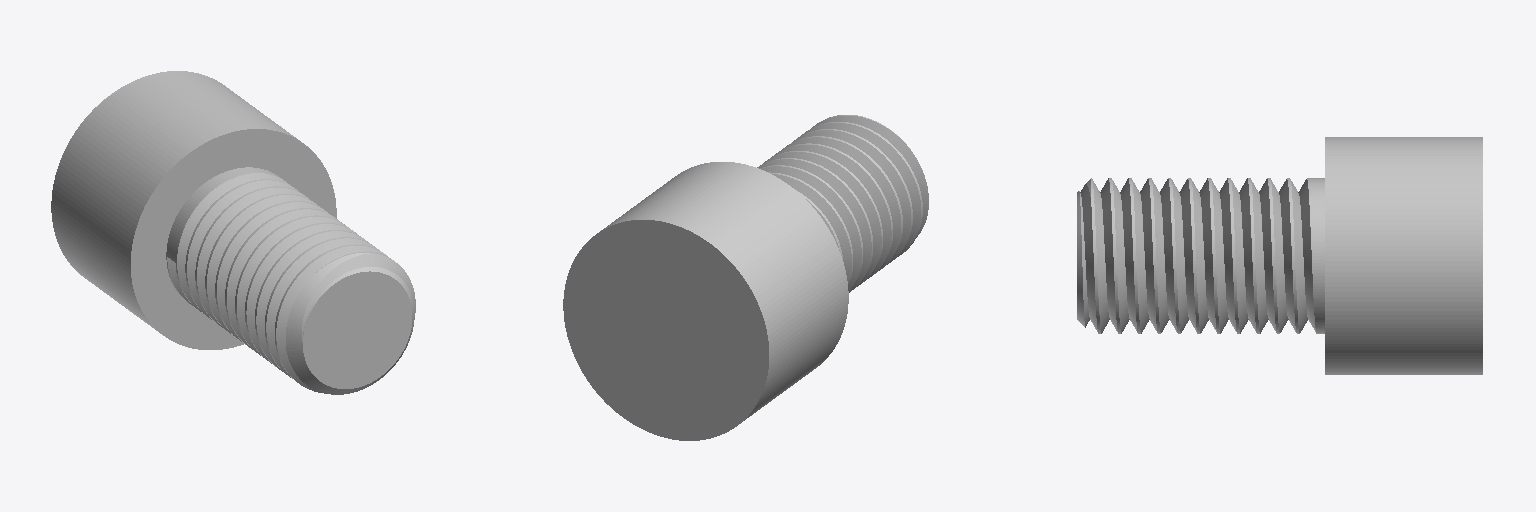
File: factory_bolt_m16_loose.obj
The picture shows the model from 3 angles: view 1: azimuth 30°, elevation 25°; view 2: azimuth 150°, elevation 25°; view 3: azimuth 270°, elevation 25°; orthographic projection.
Visible parts, largest first — view 1: mesh1, mesh4, mesh2, mesh8, mesh3, mesh7; view 2: mesh0, mesh1, mesh5, mesh3; view 3: mesh1, mesh4, mesh5, mesh3, mesh7.
Part boxes in pixels (x1,y1,x2,y2): mesh1: (51,71,299,333); mesh4: (167,173,415,393); mesh2: (131,129,336,349); mesh8: (303,271,411,388); mesh3: (166,167,390,378); mesh7: (286,253,414,394); mesh0: (563,220,768,440); mesh1: (601,162,848,426); mesh5: (757,116,928,292); mesh3: (760,115,922,291); mesh1: (1325,137,1482,374); mesh4: (1080,178,1315,332); mesh5: (1079,179,1307,333); mesh3: (1091,178,1324,333); mesh7: (1077,179,1090,326).
Bounding box in the file's own units: 0.024 × 0.024 × 0.041.